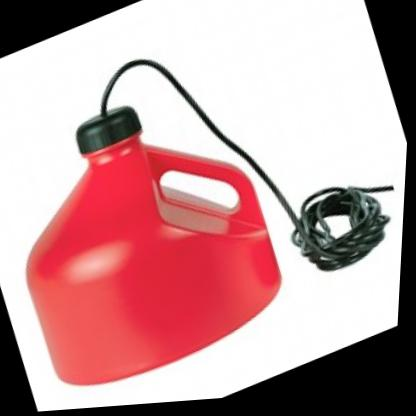Lamp: (0, 0, 359, 416)
